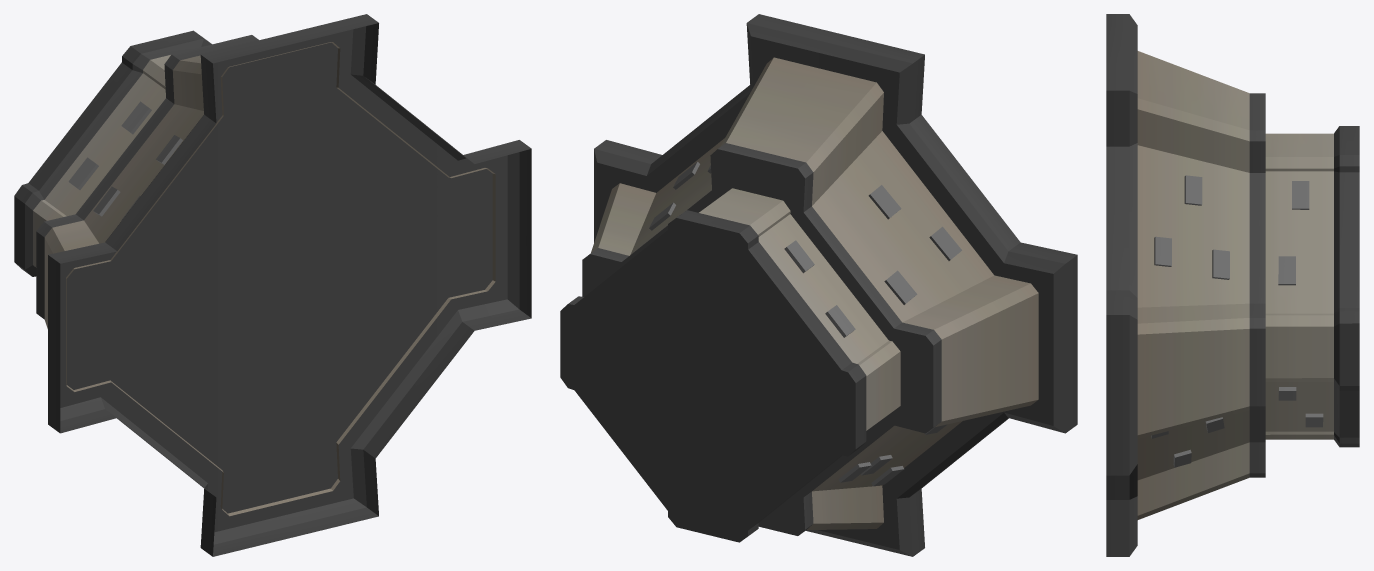
The model's file is MayorStatue_Base_A.fbx.
The picture shows the model from 3 angles, left to right: view 1: azimuth 30°, elevation 25°; view 2: azimuth 150°, elevation 25°; view 3: azimuth 270°, elevation 25°; orthographic projection. The views are drawn at different scales.
Parts seen in each view (by area): view 1: MayorStatue_Base_A; view 2: MayorStatue_Base_A; view 3: MayorStatue_Base_A.
Part boxes in pixels (<box>): MayorStatue_Base_A: <box>14,14,531,556</box>; MayorStatue_Base_A: <box>560,14,1077,556</box>; MayorStatue_Base_A: <box>1106,14,1359,556</box>.
Bounding box in the file's own units: 1144 × 1144 × 563.
